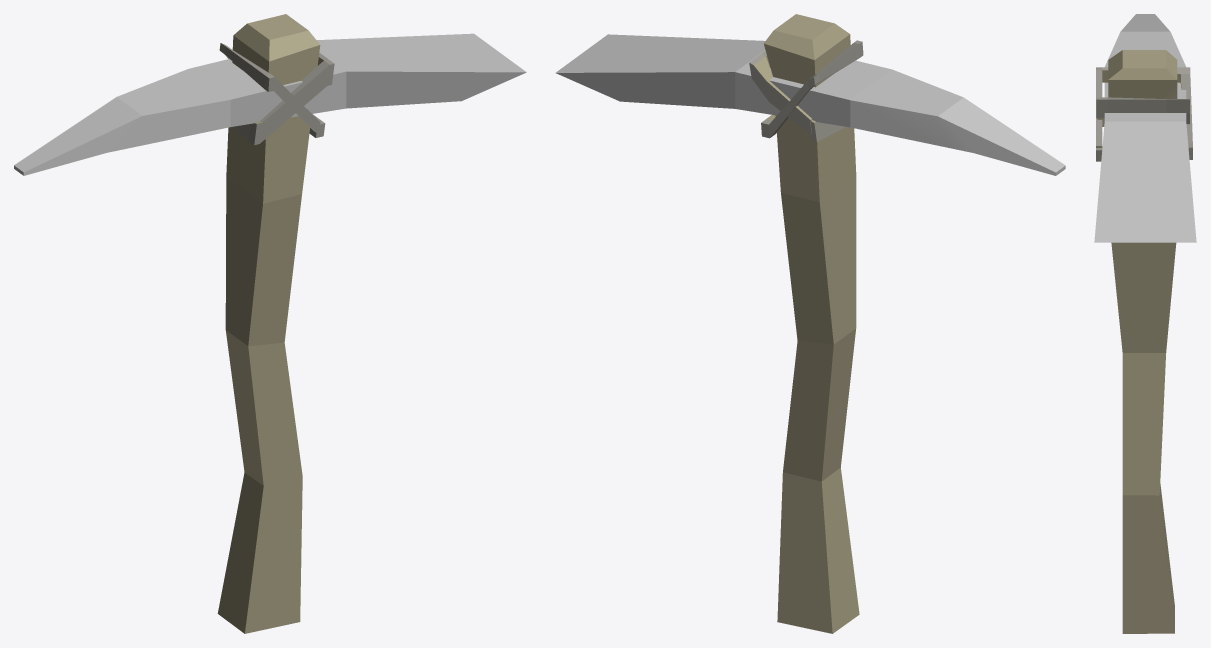
Rendered from pickaxe.fbx.
The picture shows the model from 3 angles, left to right: view 1: azimuth 30°, elevation 25°; view 2: azimuth 150°, elevation 25°; view 3: azimuth 270°, elevation 25°; orthographic projection. The views are drawn at different scales.
Visible parts, largest first — view 1: Куб, Куб_001; view 2: Куб, Куб_001; view 3: Куб, Куб_001.
Boxes of the visible parts, <box> form: Куб: <box>217,14,334,633</box>; Куб_001: <box>14,33,526,175</box>; Куб: <box>749,14,863,633</box>; Куб_001: <box>555,34,1065,175</box>; Куб: <box>1096,50,1192,633</box>; Куб_001: <box>1094,14,1196,242</box>.
Size of the model in its own units: 134 by 156 by 25.43.
